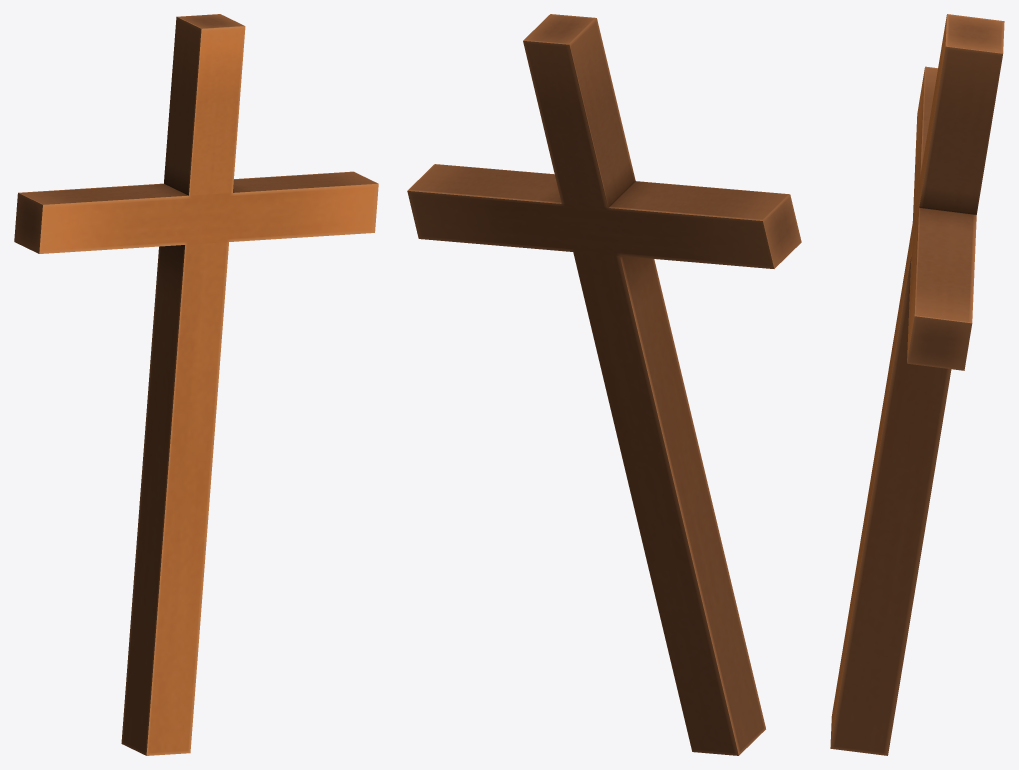
The model's file is TianZhuJiaoTang_01_shizijia_01.FBX.
The picture shows the model from 3 angles, left to right: view 1: azimuth 30°, elevation 25°; view 2: azimuth 150°, elevation 25°; view 3: azimuth 270°, elevation 25°; orthographic projection. The views are drawn at different scales.
Visible parts, largest first — view 1: TianZhuJiaoTang_01_shizijia_01; view 2: TianZhuJiaoTang_01_shizijia_01; view 3: TianZhuJiaoTang_01_shizijia_01.
Boxes of the visible parts, bbox=[...] form: TianZhuJiaoTang_01_shizijia_01: bbox=[14, 14, 378, 755]; TianZhuJiaoTang_01_shizijia_01: bbox=[407, 14, 801, 755]; TianZhuJiaoTang_01_shizijia_01: bbox=[830, 14, 1004, 755].
Bounding box in the file's own units: 173 × 331 × 67.36.
